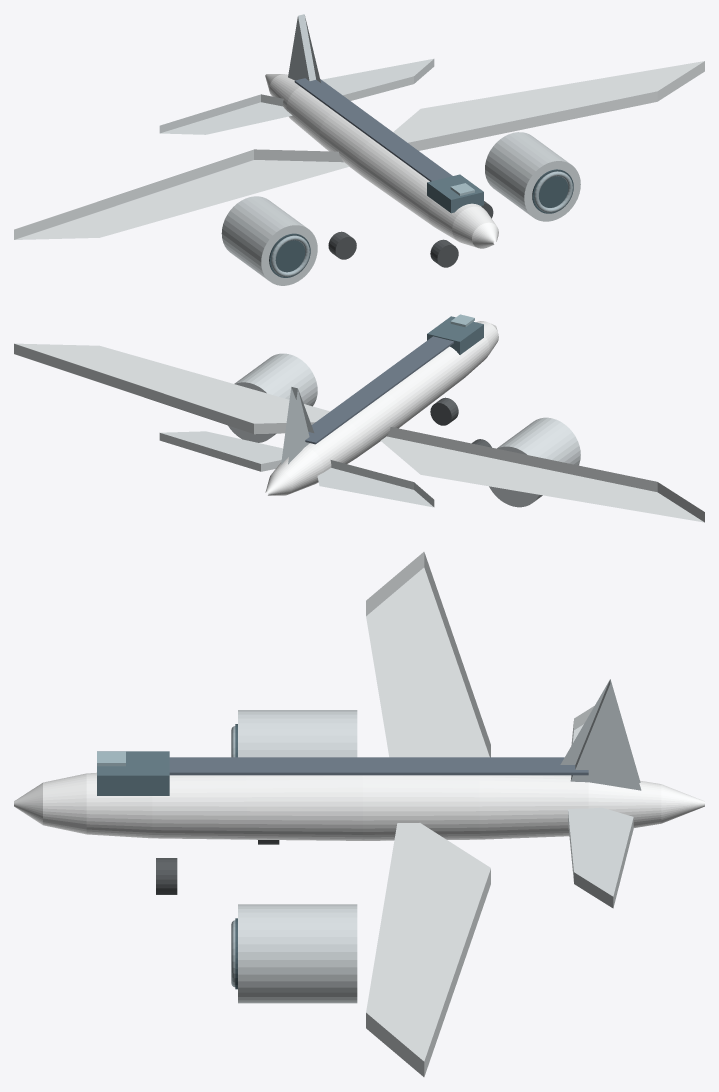
The model's file is aircraft3.glb.
3 renders of one model, top to bottom at view 1: azimuth 30°, elevation 25°; view 2: azimuth 150°, elevation 25°; view 3: azimuth 270°, elevation 25°, orthographic. The views are drawn at different scales.
Visible parts, largest first — view 1: LeftWing, RightWing, Fuselage, Engine_1, Engine_-1, BlueStripe, LeftTail, RightTail, VerticalTail, CockpitGlass, EngineIntake_1, EngineIntake_-1 (+4 smaller); view 2: LeftWing, RightWing, Fuselage, BlueStripe, Engine_-1, Engine_1, RightTail, LeftTail, VerticalTail, CockpitGlass, Wheel2; view 3: Fuselage, RightWing, LeftWing, Engine_1, BlueStripe, Engine_-1, RightTail, VerticalTail, CockpitGlass, Wheel2.
Boxes of the visible parts, box(x1,y1,x2,y2) form: LeftWing: box(14, 149, 349, 239); RightWing: box(393, 61, 704, 150); Fuselage: box(265, 74, 498, 248); Engine_1: box(485, 132, 580, 221); Engine_-1: box(221, 196, 317, 285); BlueStripe: box(294, 78, 452, 181); LeftTail: box(159, 94, 292, 134); RightTail: box(322, 58, 434, 100); VerticalTail: box(288, 14, 320, 82); CockpitGlass: box(427, 174, 483, 213); EngineIntake_1: box(532, 169, 573, 213); EngineIntake_-1: box(269, 233, 310, 277); LeftWing: box(381, 427, 704, 522); RightWing: box(14, 343, 329, 434); Fuselage: box(265, 321, 498, 495); BlueStripe: box(305, 336, 453, 444); Engine_-1: box(489, 417, 580, 507); Engine_1: box(228, 353, 317, 442); RightTail: box(159, 431, 283, 471); LeftTail: box(317, 460, 434, 507); VerticalTail: box(281, 387, 314, 464); CockpitGlass: box(427, 316, 483, 354); Wheel2: box(430, 397, 458, 425); Fuselage: box(14, 772, 704, 840); RightWing: box(366, 823, 490, 1076); LeftWing: box(366, 552, 490, 757); Engine_1: box(238, 904, 357, 1003); BlueStripe: box(169, 757, 588, 775); Engine_-1: box(238, 710, 357, 757); RightTail: box(568, 807, 633, 908); VerticalTail: box(560, 679, 641, 790); CockpitGlass: box(97, 751, 169, 795); Wheel2: box(156, 858, 177, 894).
Size of the model in its own units: 8.3 by 1.69 by 4.75.
